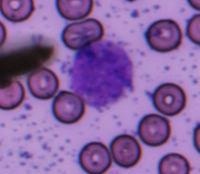B: (68, 38, 136, 110)
